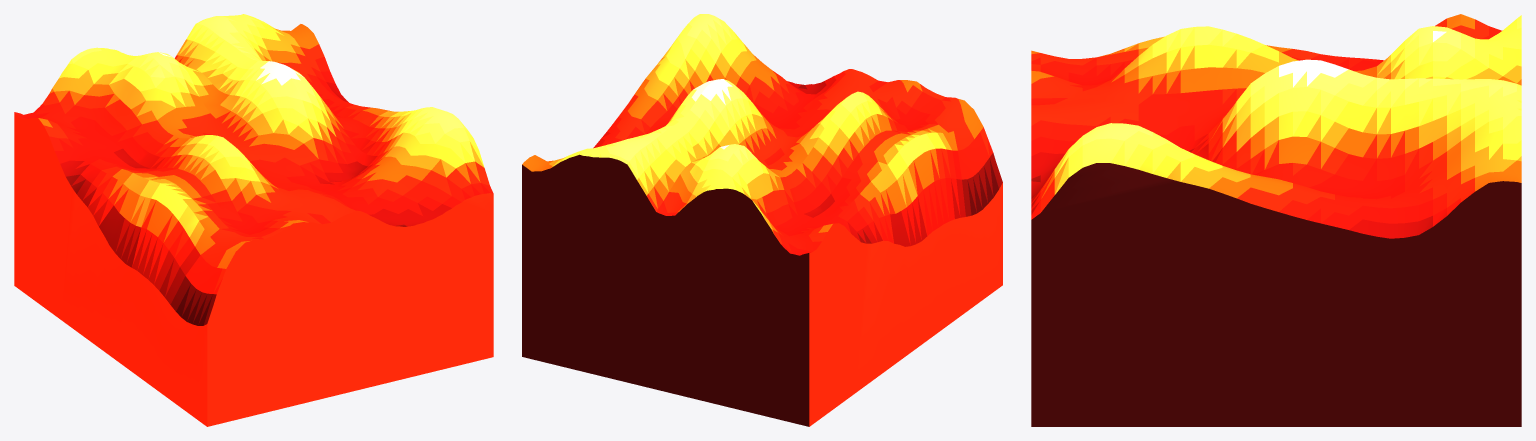
The model's file is core_fire_98.glb.
The picture shows the model from 3 angles, left to right: view 1: azimuth 30°, elevation 25°; view 2: azimuth 150°, elevation 25°; view 3: azimuth 270°, elevation 25°; orthographic projection. The views are drawn at different scales.
Parts seen in each view (by area): view 1: core_fire_98_fire; view 2: core_fire_98_fire; view 3: core_fire_98_fire.
Part boxes in pixels (x1,y1,x2,y2): core_fire_98_fire: (14,14,493,426); core_fire_98_fire: (522,14,1002,426); core_fire_98_fire: (1031,14,1521,426).
Bounding box in the file's own units: 18 × 14.28 × 21.
